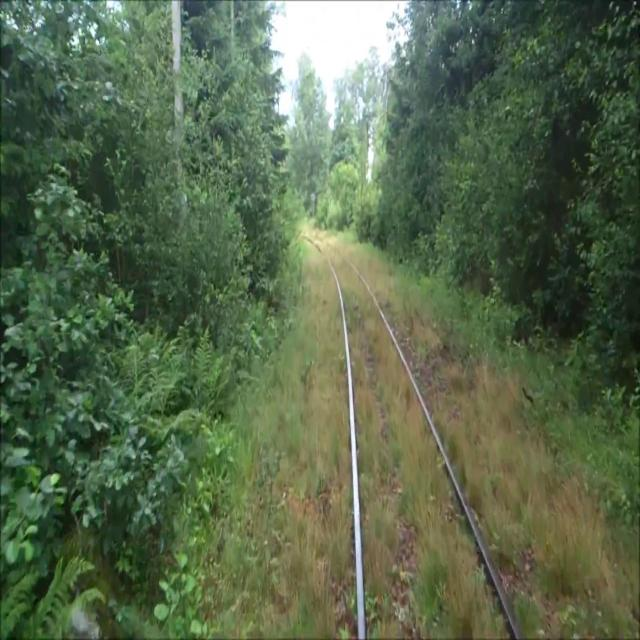rail-track: (303, 230, 516, 639)
